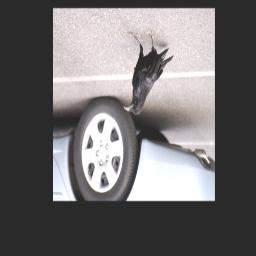Crow: (124, 31, 174, 118)
